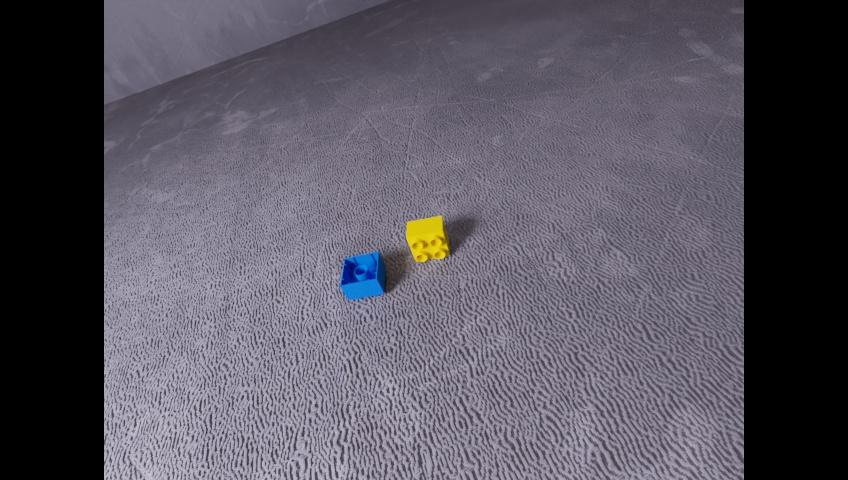2x2_blue: (340, 251, 384, 299)
2x2_yellow: (406, 215, 449, 261)
